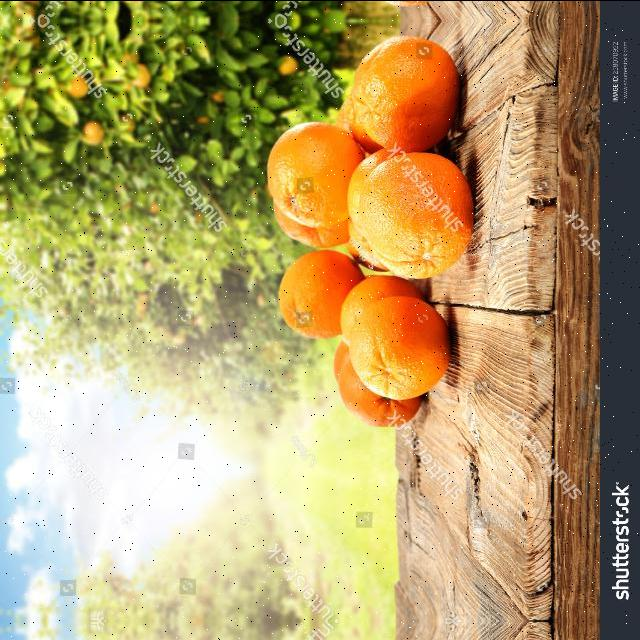Orange: (354, 151, 473, 279), (347, 35, 459, 152), (347, 295, 450, 400), (265, 121, 363, 228), (277, 249, 363, 339), (336, 355, 422, 428)
